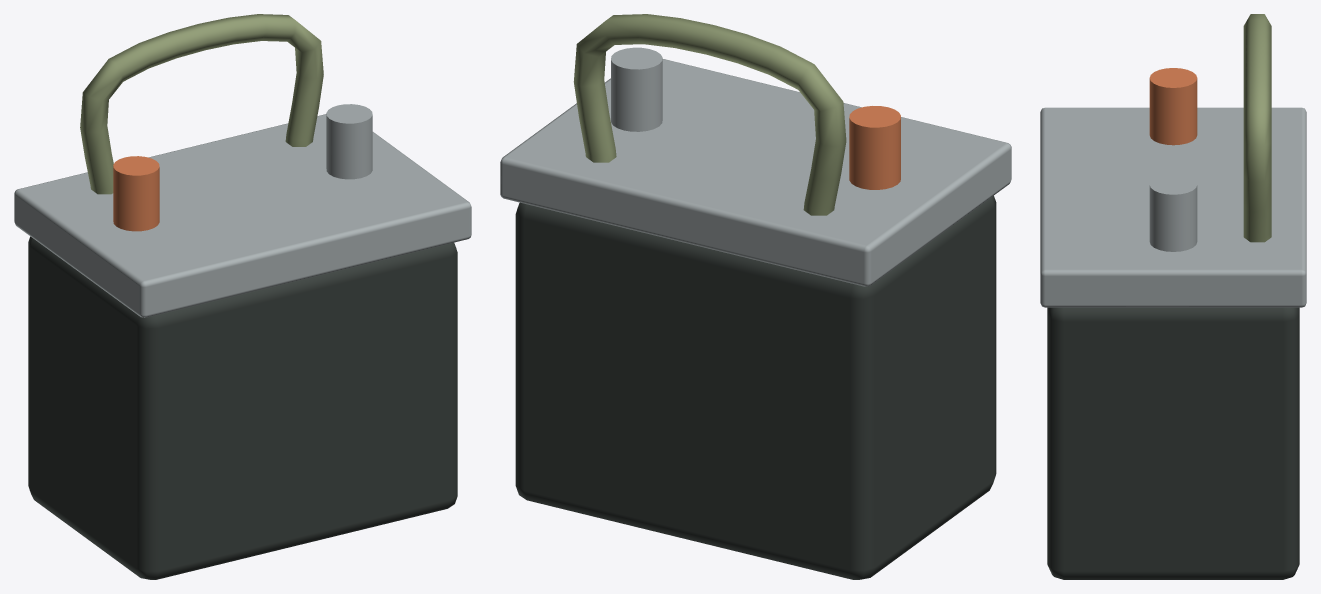
File: survivor-vehicle-maintenance-vehicle-battery-171856cb__26646.glb
3 views of the same model, side by side, from view 1: azimuth 30°, elevation 25°; view 2: azimuth 150°, elevation 25°; view 3: azimuth 270°, elevation 25° (orthographic). The views are drawn at different scales.
Parts seen in each view (by area): view 1: vehicle-battery; view 2: vehicle-battery; view 3: vehicle-battery.
Part boxes in pixels (x1,y1,x2,y2): vehicle-battery: [14, 14, 471, 579]; vehicle-battery: [500, 14, 1011, 579]; vehicle-battery: [1040, 14, 1306, 579].
Bounding box in the file's own units: 0.28 × 0.3624 × 0.19.
